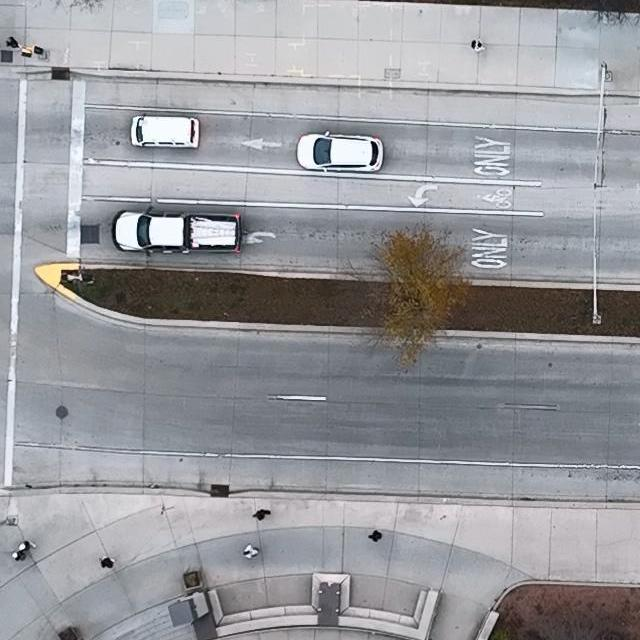car: (111, 205, 242, 258), (298, 131, 384, 172), (130, 113, 200, 150)
